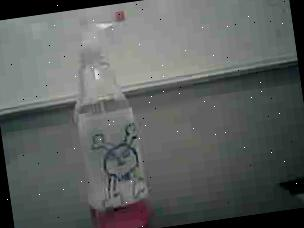hazard: (53, 0, 176, 228)
